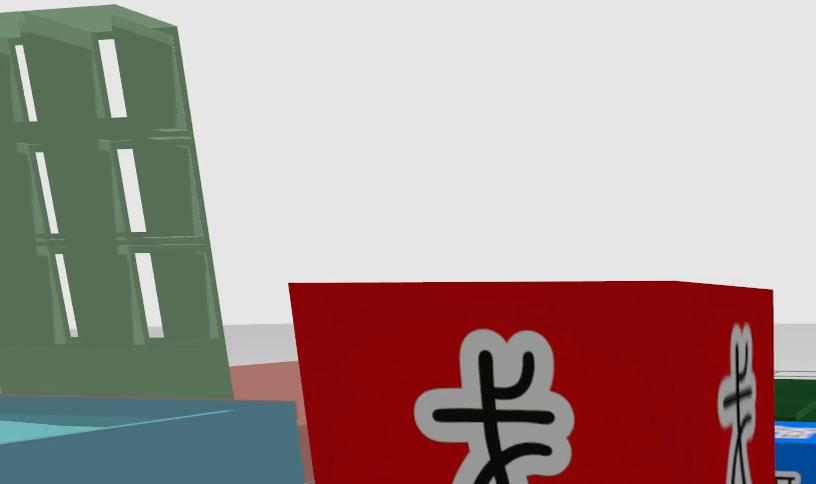KFS_FAKE: (289, 281, 777, 484), (415, 330, 574, 484), (719, 324, 757, 484)
KFS_REAL: (773, 419, 816, 484)
